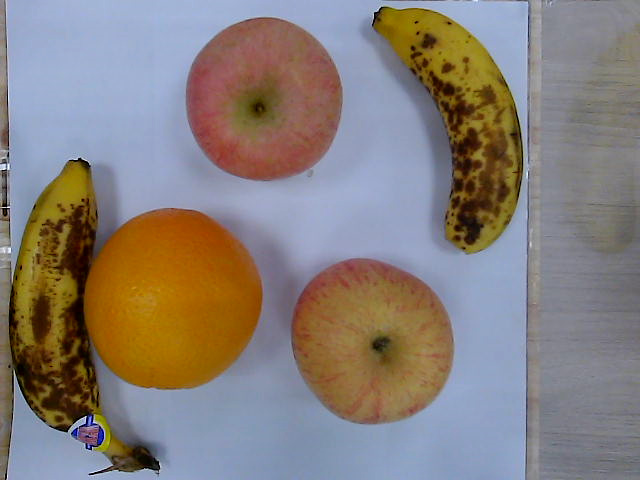fresh_apple: (292, 259, 454, 425), (187, 15, 344, 181)
fresh_orange: (83, 208, 263, 390)
rotten_banana: (9, 159, 163, 473), (371, 3, 524, 254)
